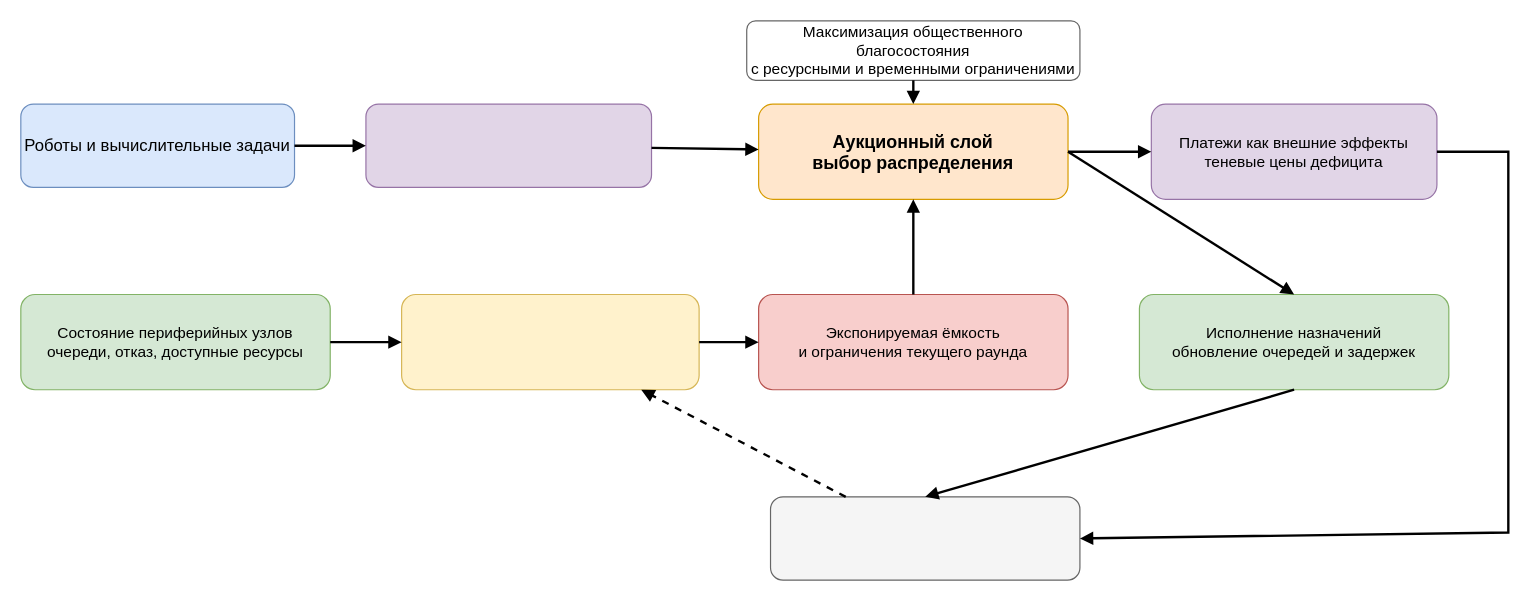
Image size: 1540x601. Some labels were removed from this diagram. Here are the shapes that lost their labels. From the top down, the box of each, then its label:
(365, 103, 652, 187): Структурированные заявки ценность, срок, ресурсы, приоритет
(400, 293, 699, 390): Обучаемая стратегия выбор операционных режимов
(769, 496, 1080, 580): Агрегированные признаки для адаптивного управления
